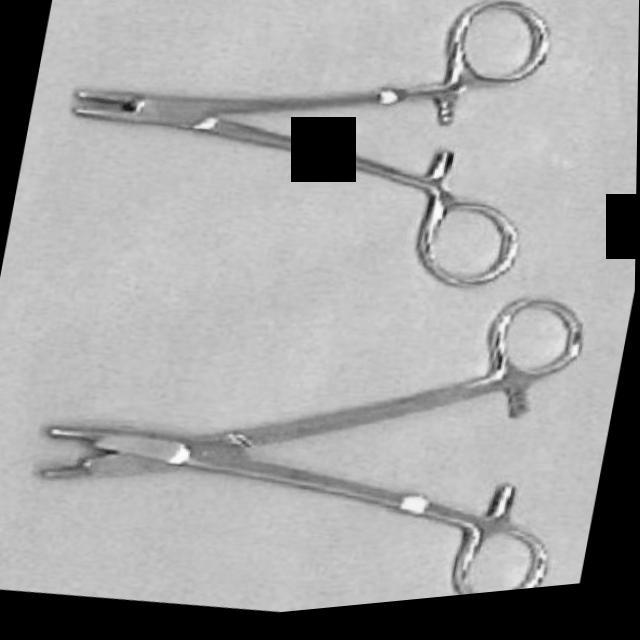Needle Holder: (21, 218, 612, 638), (28, 0, 574, 338)
